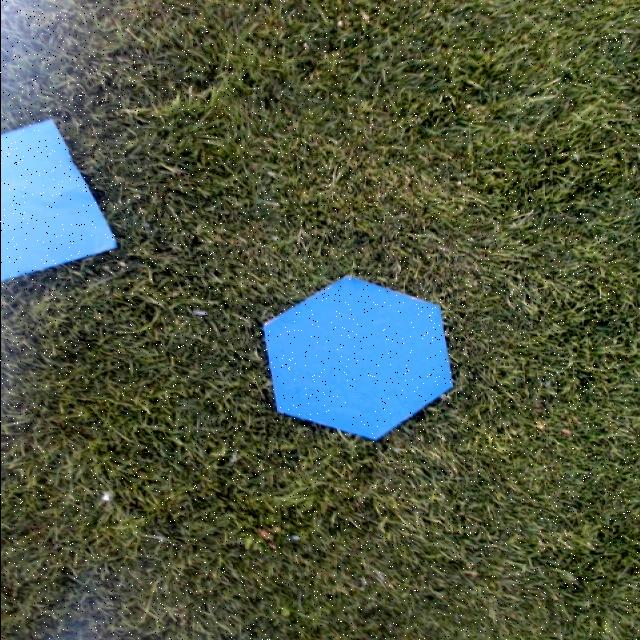blue_hexagon: (261, 278, 454, 440)
